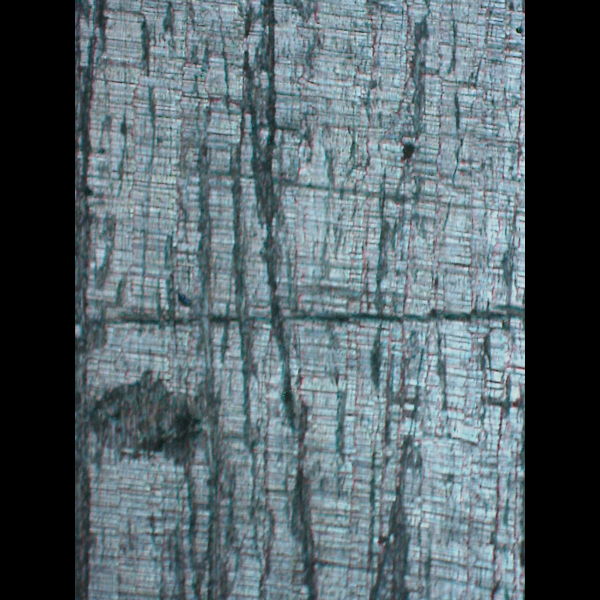d: (76, 359, 208, 469)
